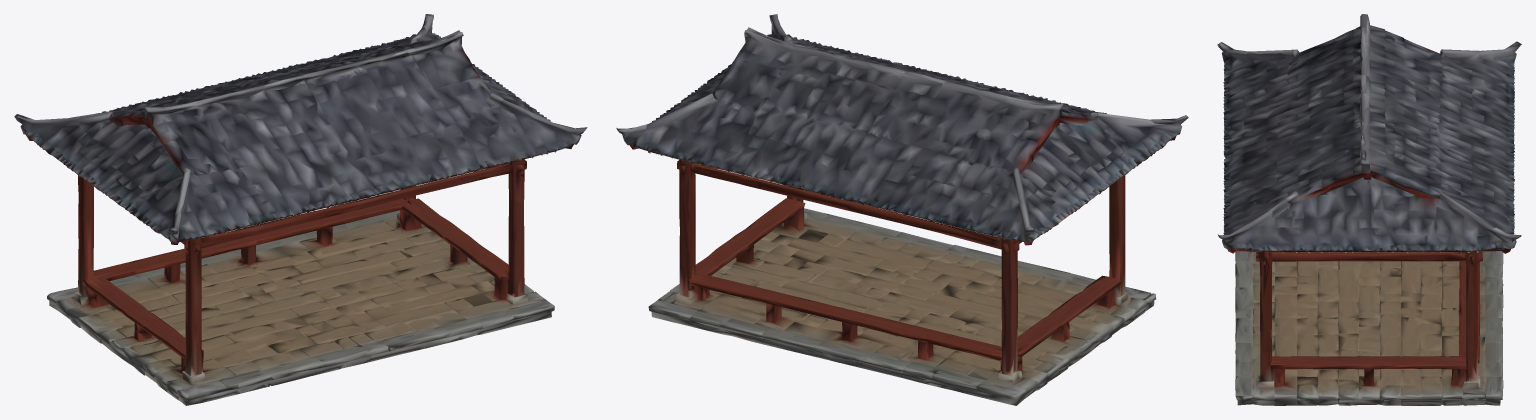
Rendered from station_岭台.glb.
3 renders of one model, left to right at view 1: azimuth 30°, elevation 25°; view 2: azimuth 150°, elevation 25°; view 3: azimuth 270°, elevation 25°, orthographic. The views are drawn at different scales.
Parts seen in each view (by area): view 1: tripo_node_5568e730-fe19-4052-8944-b740bdecf805; view 2: tripo_node_5568e730-fe19-4052-8944-b740bdecf805; view 3: tripo_node_5568e730-fe19-4052-8944-b740bdecf805.
Boxes of the visible parts, x1,y1,x2,y2 form: tripo_node_5568e730-fe19-4052-8944-b740bdecf805: (14,14,587,405); tripo_node_5568e730-fe19-4052-8944-b740bdecf805: (616,14,1188,405); tripo_node_5568e730-fe19-4052-8944-b740bdecf805: (1217,14,1521,405).
Bounding box in the file's own units: 1.6 × 0.8902 × 1.05.
